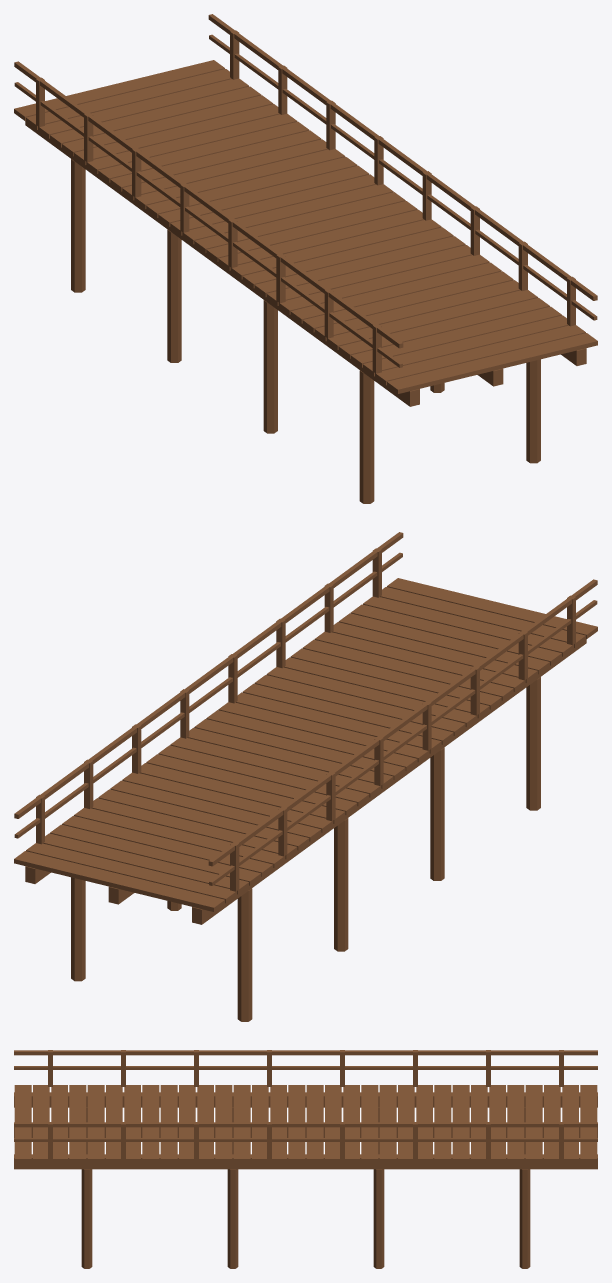
The model's file is Bridge_Wood_1Lane_16m.glb.
3 renders of one model, top to bottom at view 1: azimuth 30°, elevation 25°; view 2: azimuth 150°, elevation 25°; view 3: azimuth 270°, elevation 25°, orthographic. The views are drawn at different scales.
Visible parts, largest first — view 1: Bridge_Wood_1Lane_16m_Wood; view 2: Bridge_Wood_1Lane_16m_Wood; view 3: Bridge_Wood_1Lane_16m_Wood.
Boxes of the visible parts, box(x1,y1,x2,y2) form: Bridge_Wood_1Lane_16m_Wood: box(14, 14, 597, 503); Bridge_Wood_1Lane_16m_Wood: box(14, 532, 597, 1021); Bridge_Wood_1Lane_16m_Wood: box(14, 1050, 597, 1268).
Bounding box in the file's own units: 4.8 × 4.5 × 16.
